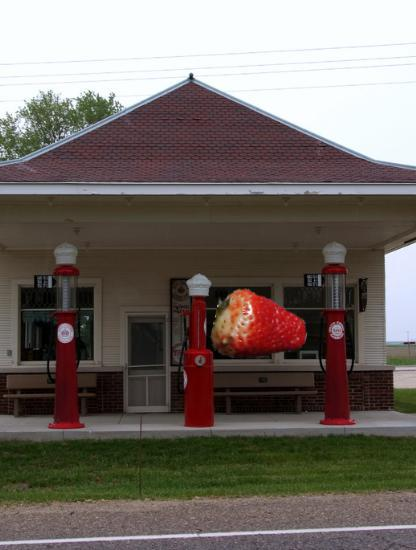Strawberry: (213, 282, 308, 377)
